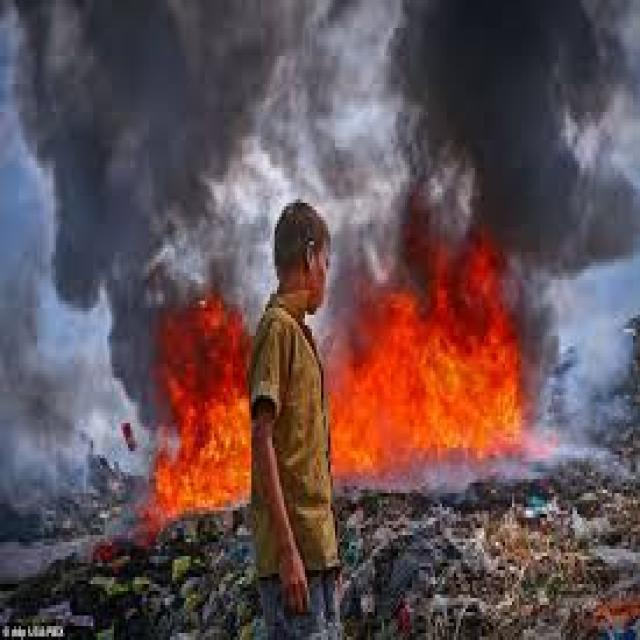Fire: (334, 187, 523, 462), (125, 293, 268, 512)
Smoke: (31, 11, 297, 242), (380, 6, 640, 178)
